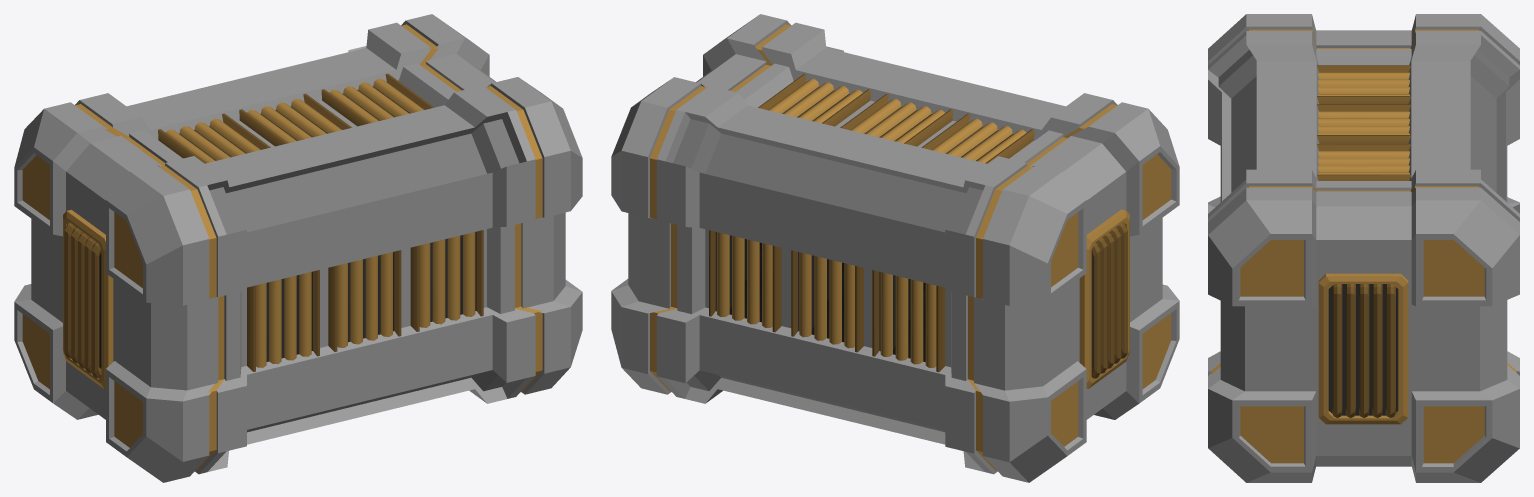
The model's file is Props_CrateLong.glb.
The picture shows the model from 3 angles, left to right: view 1: azimuth 30°, elevation 25°; view 2: azimuth 150°, elevation 25°; view 3: azimuth 270°, elevation 25°; orthographic projection.
Visible parts, largest first — view 1: Props_CrateLong; view 2: Props_CrateLong; view 3: Props_CrateLong.
Part boxes in pixels (box(x1,y1,x2,y2)): Props_CrateLong: box(14, 14, 582, 482); Props_CrateLong: box(611, 14, 1179, 482); Props_CrateLong: box(1208, 14, 1519, 482).
Bounding box in the file's own units: 1.23 × 0.7698 × 0.7698.
